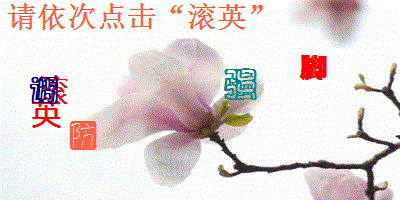text: (223, 68, 258, 101), (31, 99, 64, 131), (37, 75, 69, 105), (29, 76, 60, 105), (69, 120, 97, 152), (299, 54, 328, 81)
